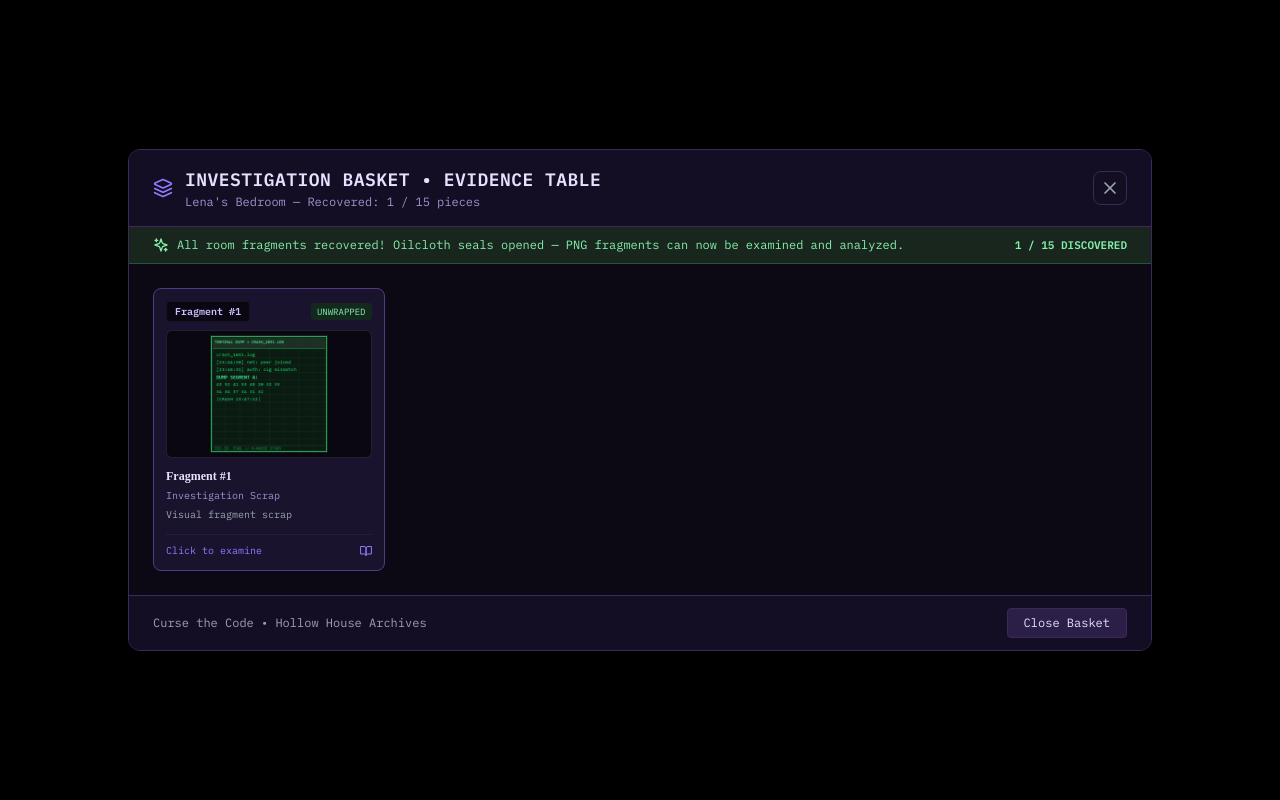
Test case: Room 2 (Daniel's Study) Comprehensive Test Suite (50 Tests) › QA-R2-FE-12: test_room2_basket_contrast_and_brightness_controls_active
This screenshot has width=1280, height=800.
Click the text "Click to examine" at point(214, 550), box [166,543,262,558]
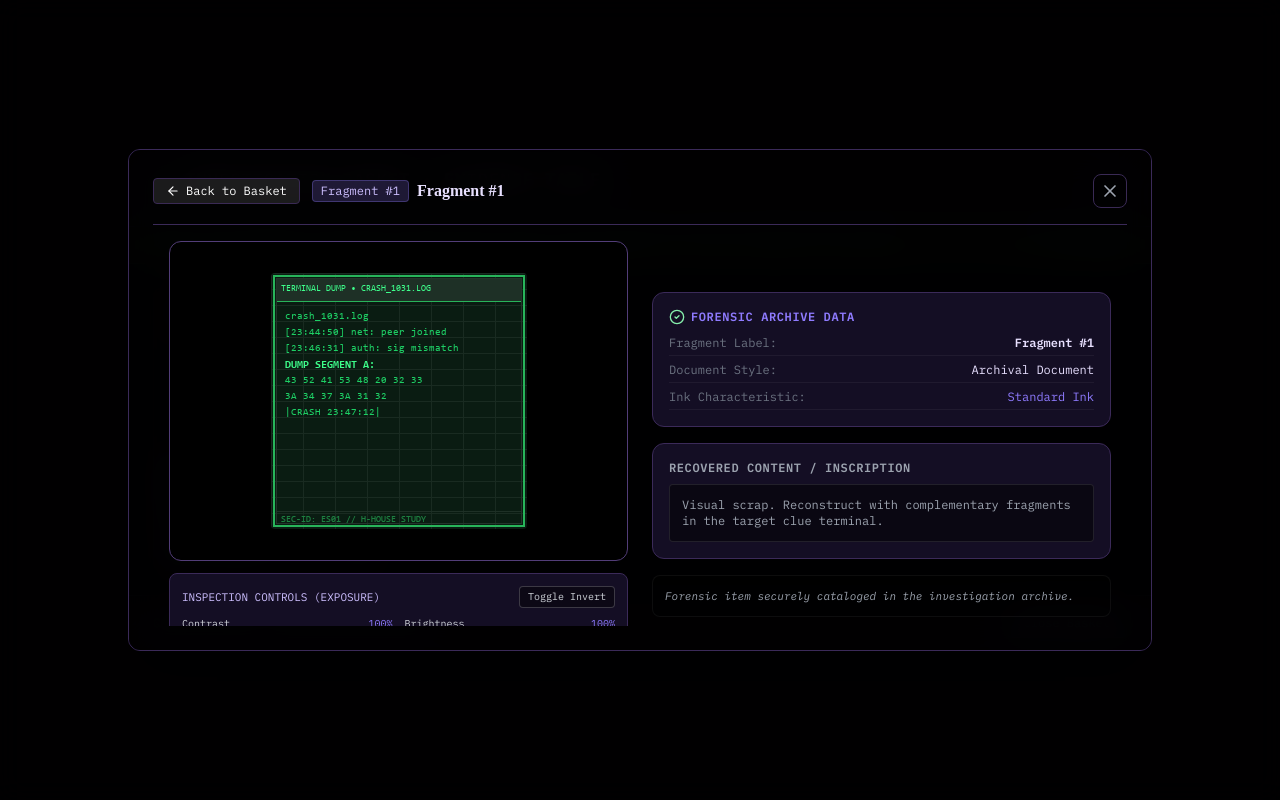
Expected: the text "Contrast" is shown, [182,616,230,626]
Expected: the text "Brightness" is shown, [404,616,464,626]
